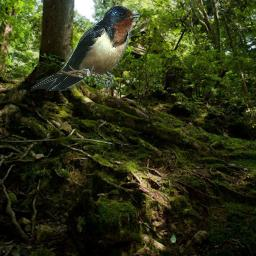Swallow: (31, 5, 140, 91)
